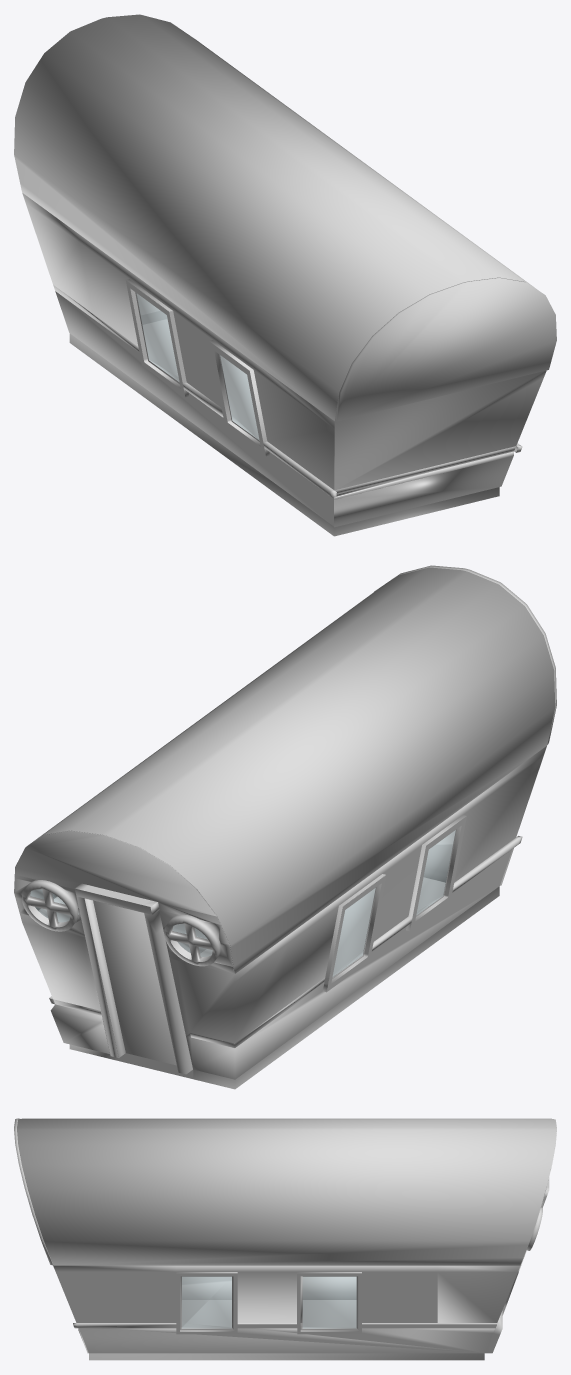
Rendered from Player_Trailer_Int.fbx.
3 views of the same model, one above another, from view 1: azimuth 30°, elevation 25°; view 2: azimuth 150°, elevation 25°; view 3: azimuth 270°, elevation 25° (orthographic). The views are drawn at different scales.
Visible parts, largest first — view 1: Trailer; view 2: Trailer; view 3: Trailer.
Boxes of the visible parts, x1,y1,x2,y2 form: Trailer: (14, 14, 556, 536); Trailer: (14, 565, 556, 1089); Trailer: (14, 1118, 556, 1360).
Bounding box in the file's own units: 9521 × 11311 × 27564.
